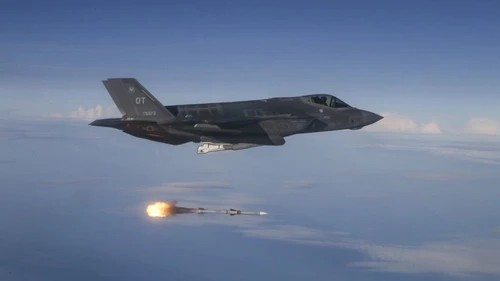F-35 Lightning: (84, 51, 390, 161)
